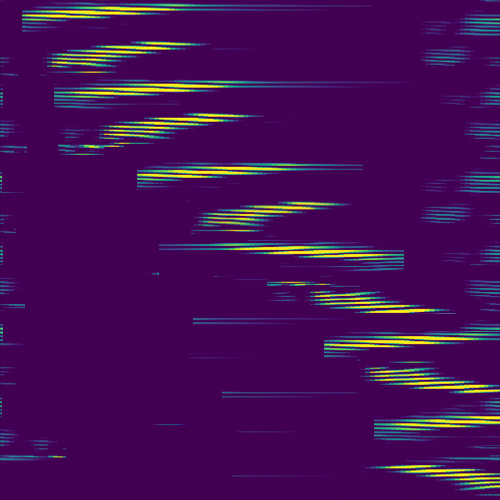semblance: (264, 278, 447, 319), (79, 110, 251, 150), (47, 36, 200, 75), (201, 197, 338, 235), (366, 360, 500, 397), (214, 239, 390, 265), (18, 1, 208, 24), (382, 460, 500, 491), (66, 79, 238, 100), (135, 165, 312, 183), (323, 332, 476, 352), (390, 413, 500, 431)
